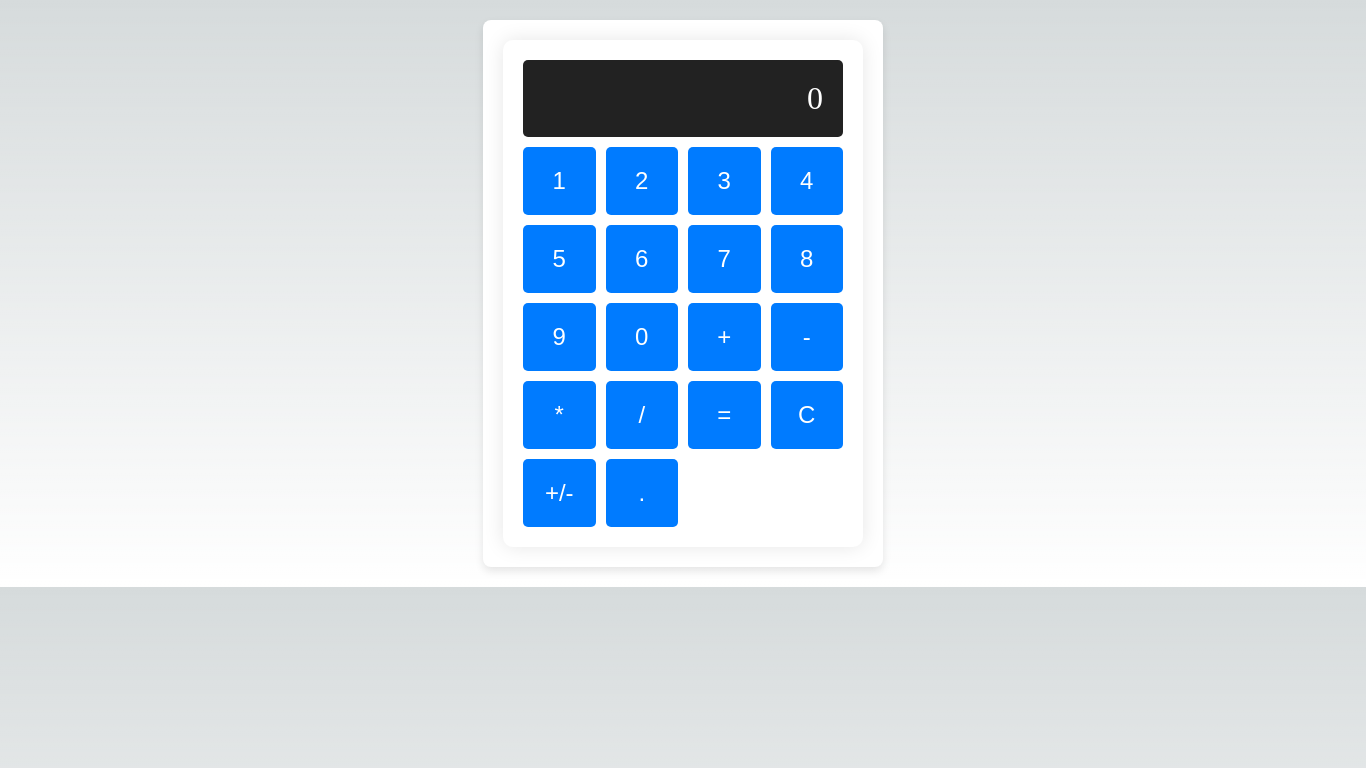
Test case: Calculator › performs multiplication correctly
Click the button "3" at x=724, y=181, box [688, 147, 760, 215]
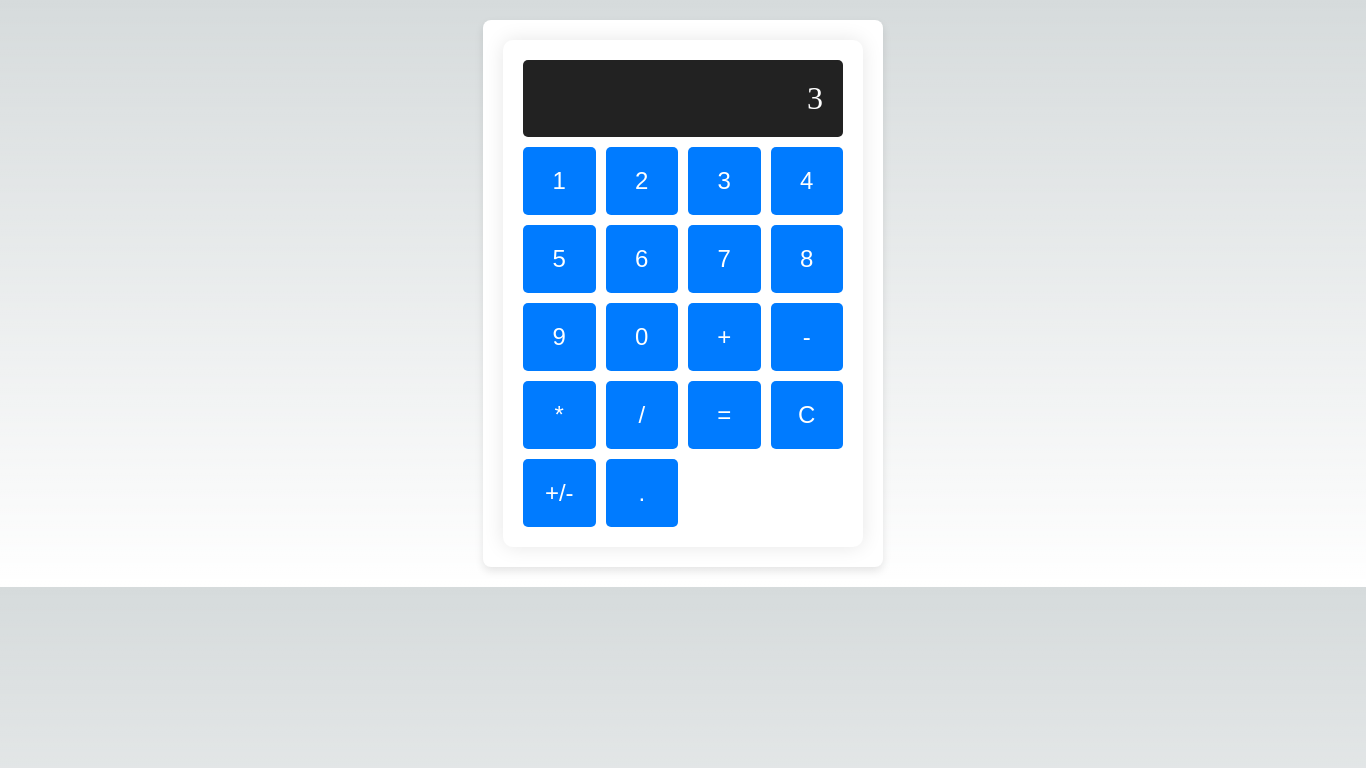
Click the button "*" at x=559, y=415, box [523, 381, 596, 449]
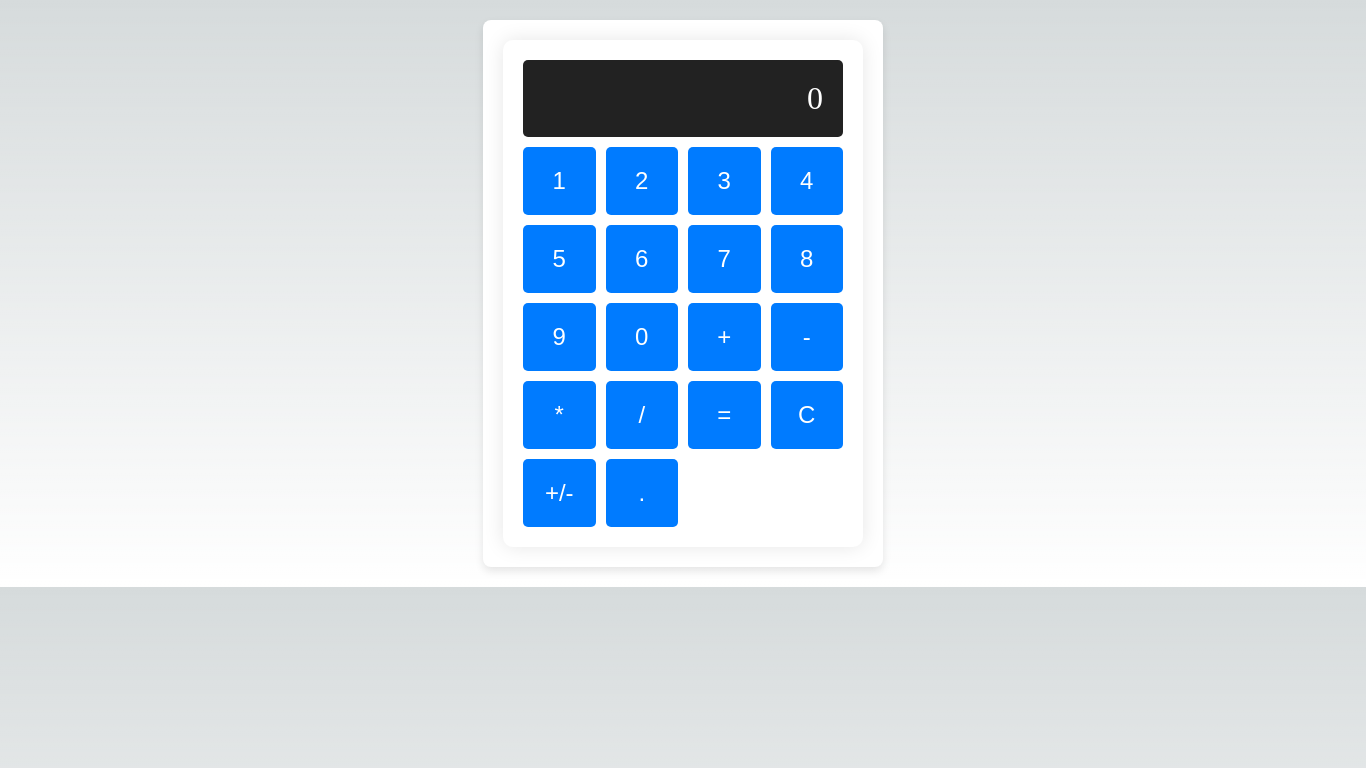
Click the button "4" at x=807, y=181, box [770, 147, 843, 215]
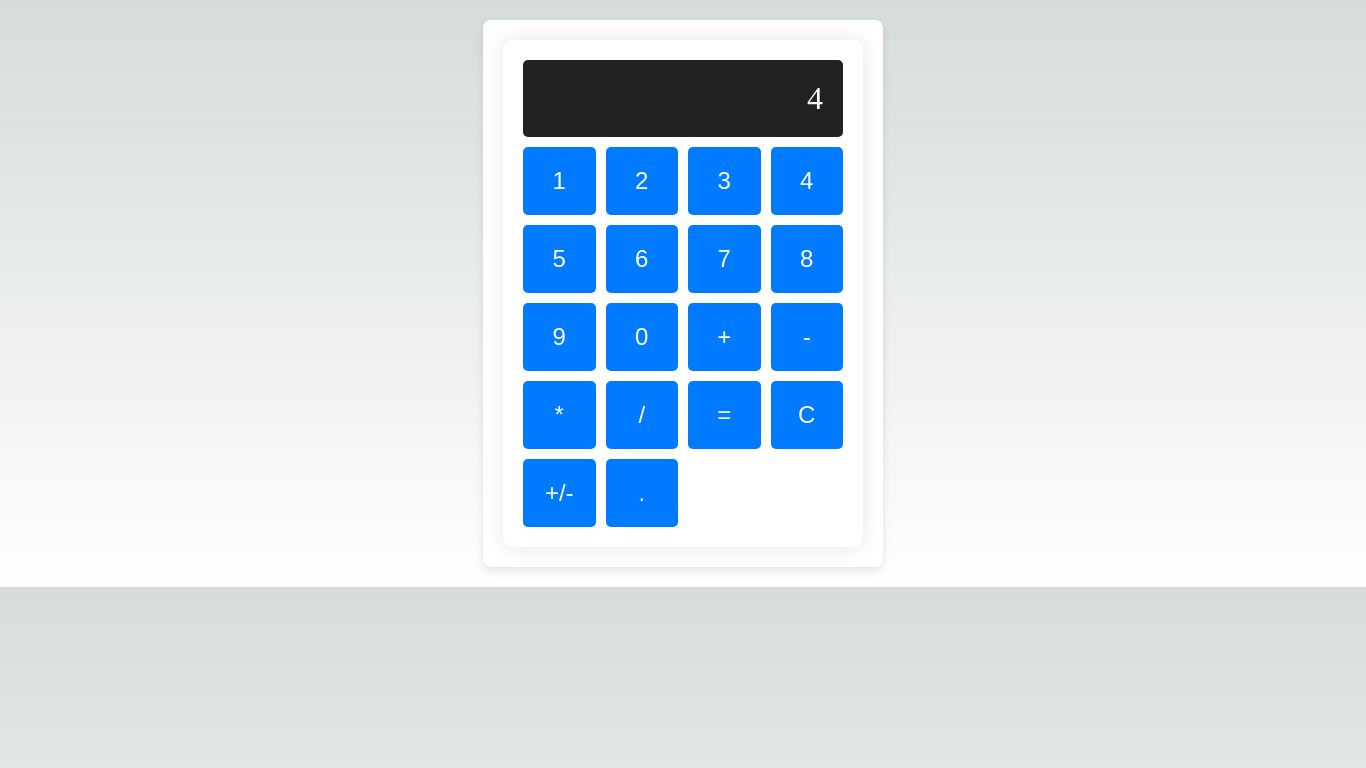
Click the button "=" at x=724, y=415, box [688, 381, 760, 449]
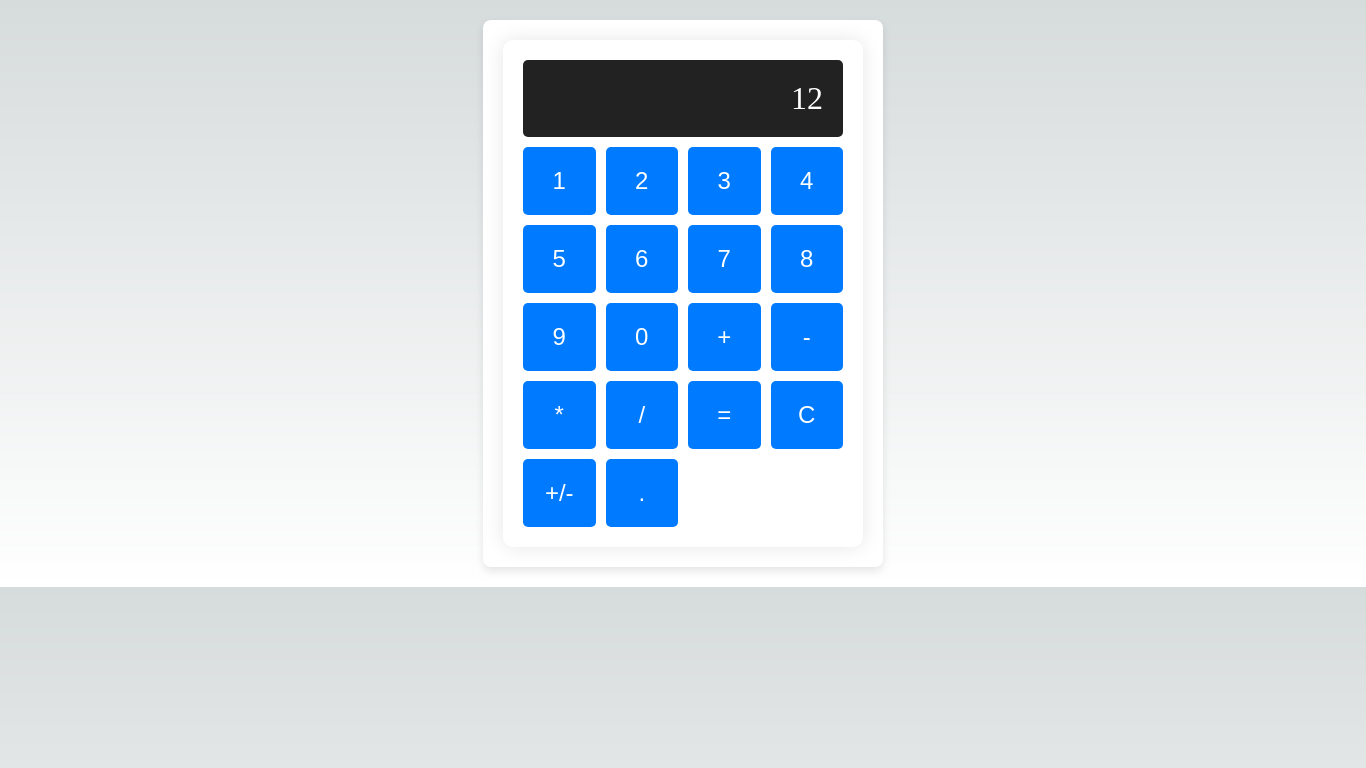
Expected: the text "12" is shown, [523, 60, 843, 137]
